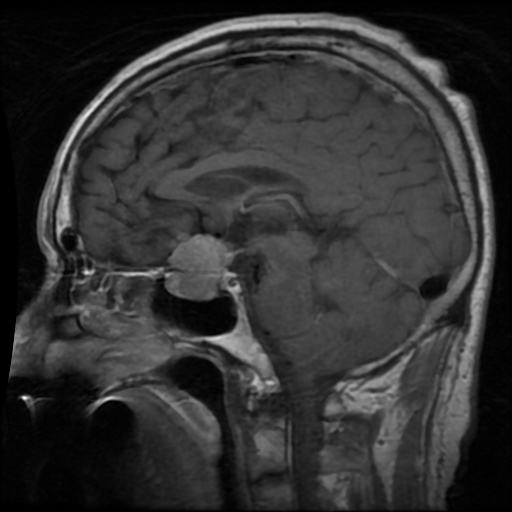pituitary: (165, 232, 230, 298)
